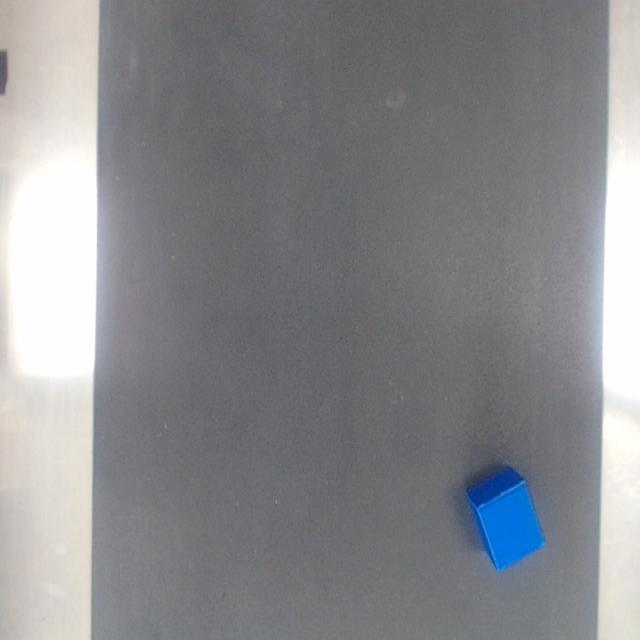Azul: (466, 468, 544, 571)
